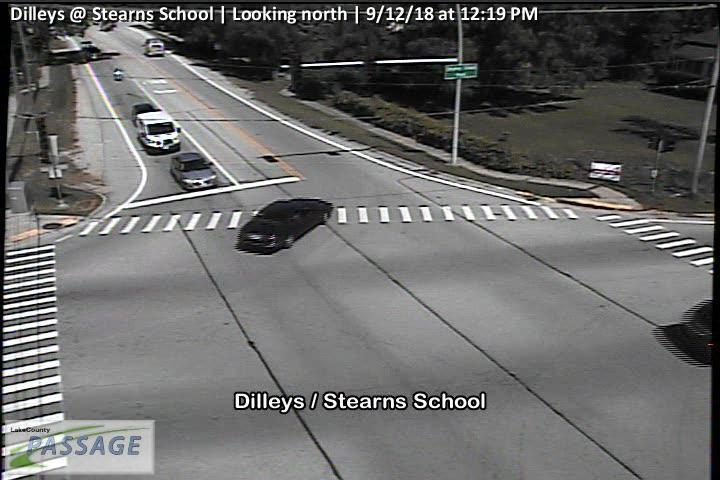SUV: (135, 108, 180, 154), (145, 38, 163, 56)
Sedan: (240, 198, 334, 254), (173, 152, 219, 191)
